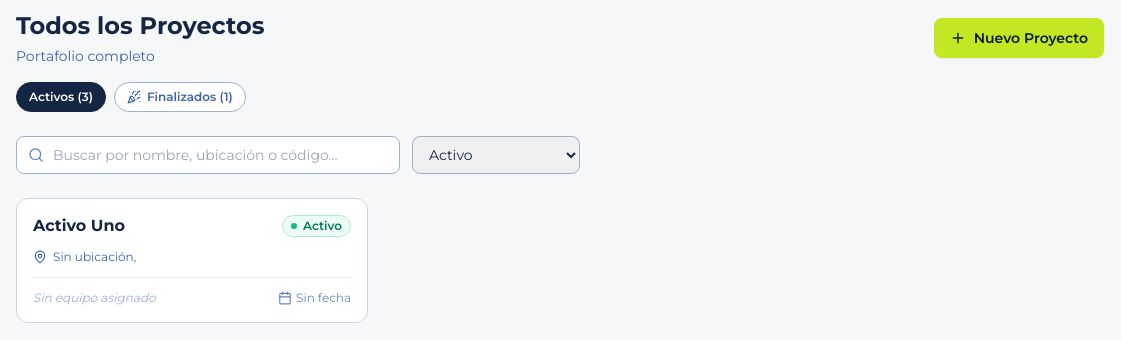
Test: "Todos los proyectos" abre en los activos › cambiar el filtro a "todos los estados" los trae de vuelta
Select "Todos los estados" in the dropdown: (496, 155) [412,136,580,174]
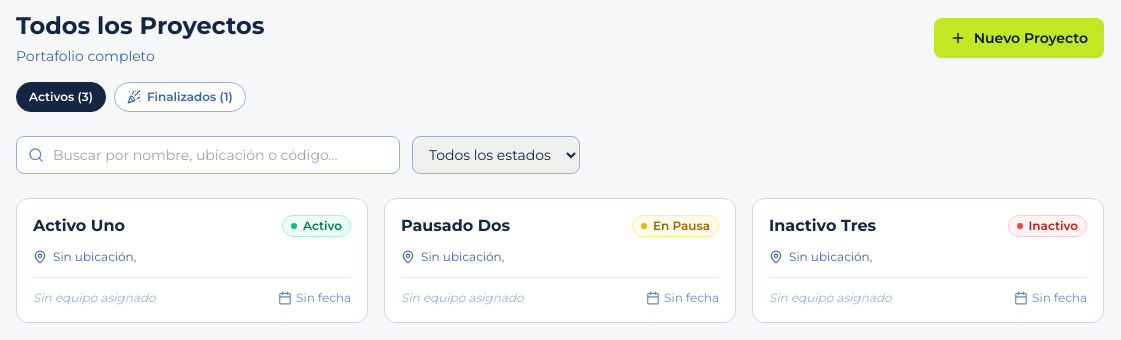
Expected: the heading "Pausado Dos" is shown, [401,215,510,237]
Expected: the heading "Inactivo Tres" is shown, [769,215,876,237]
